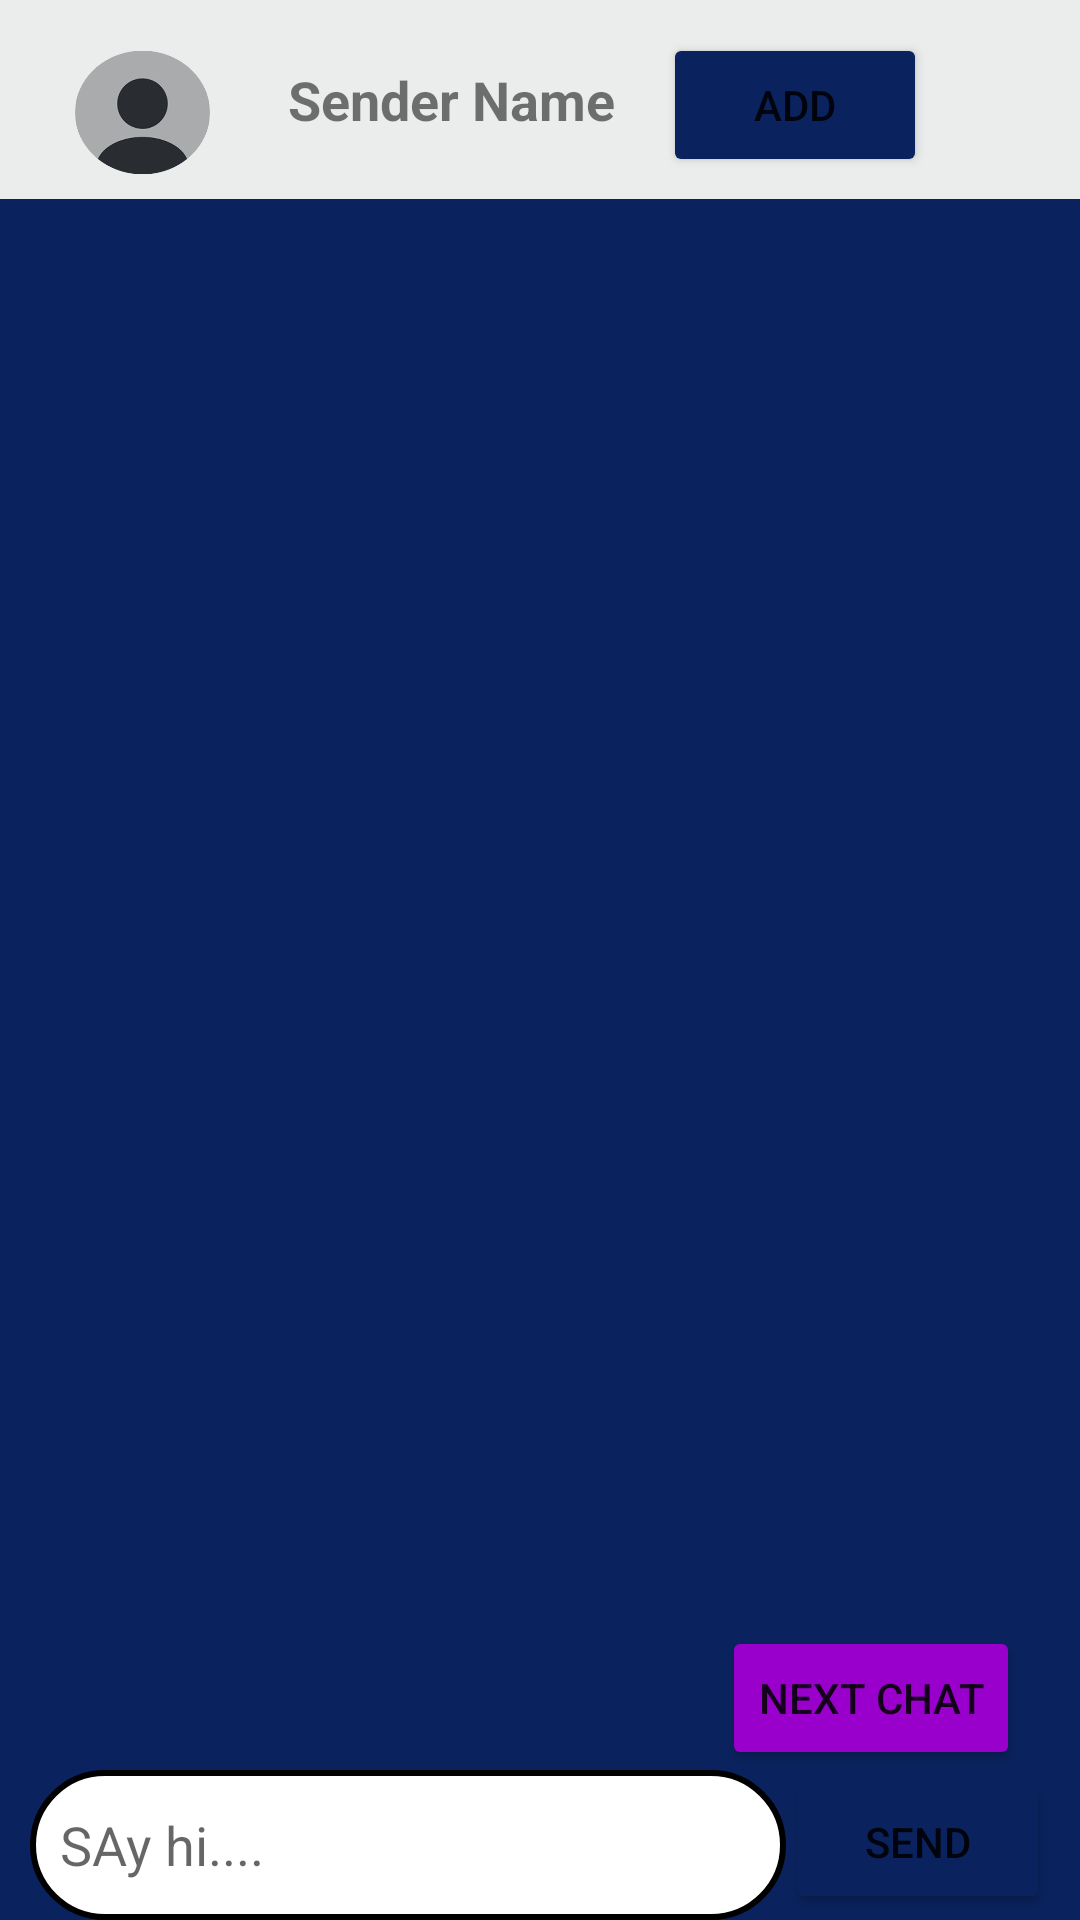

Icons on this 1080 x 1920 Android screen, each with the point to tap as (x,y):
profile: (142,112)
